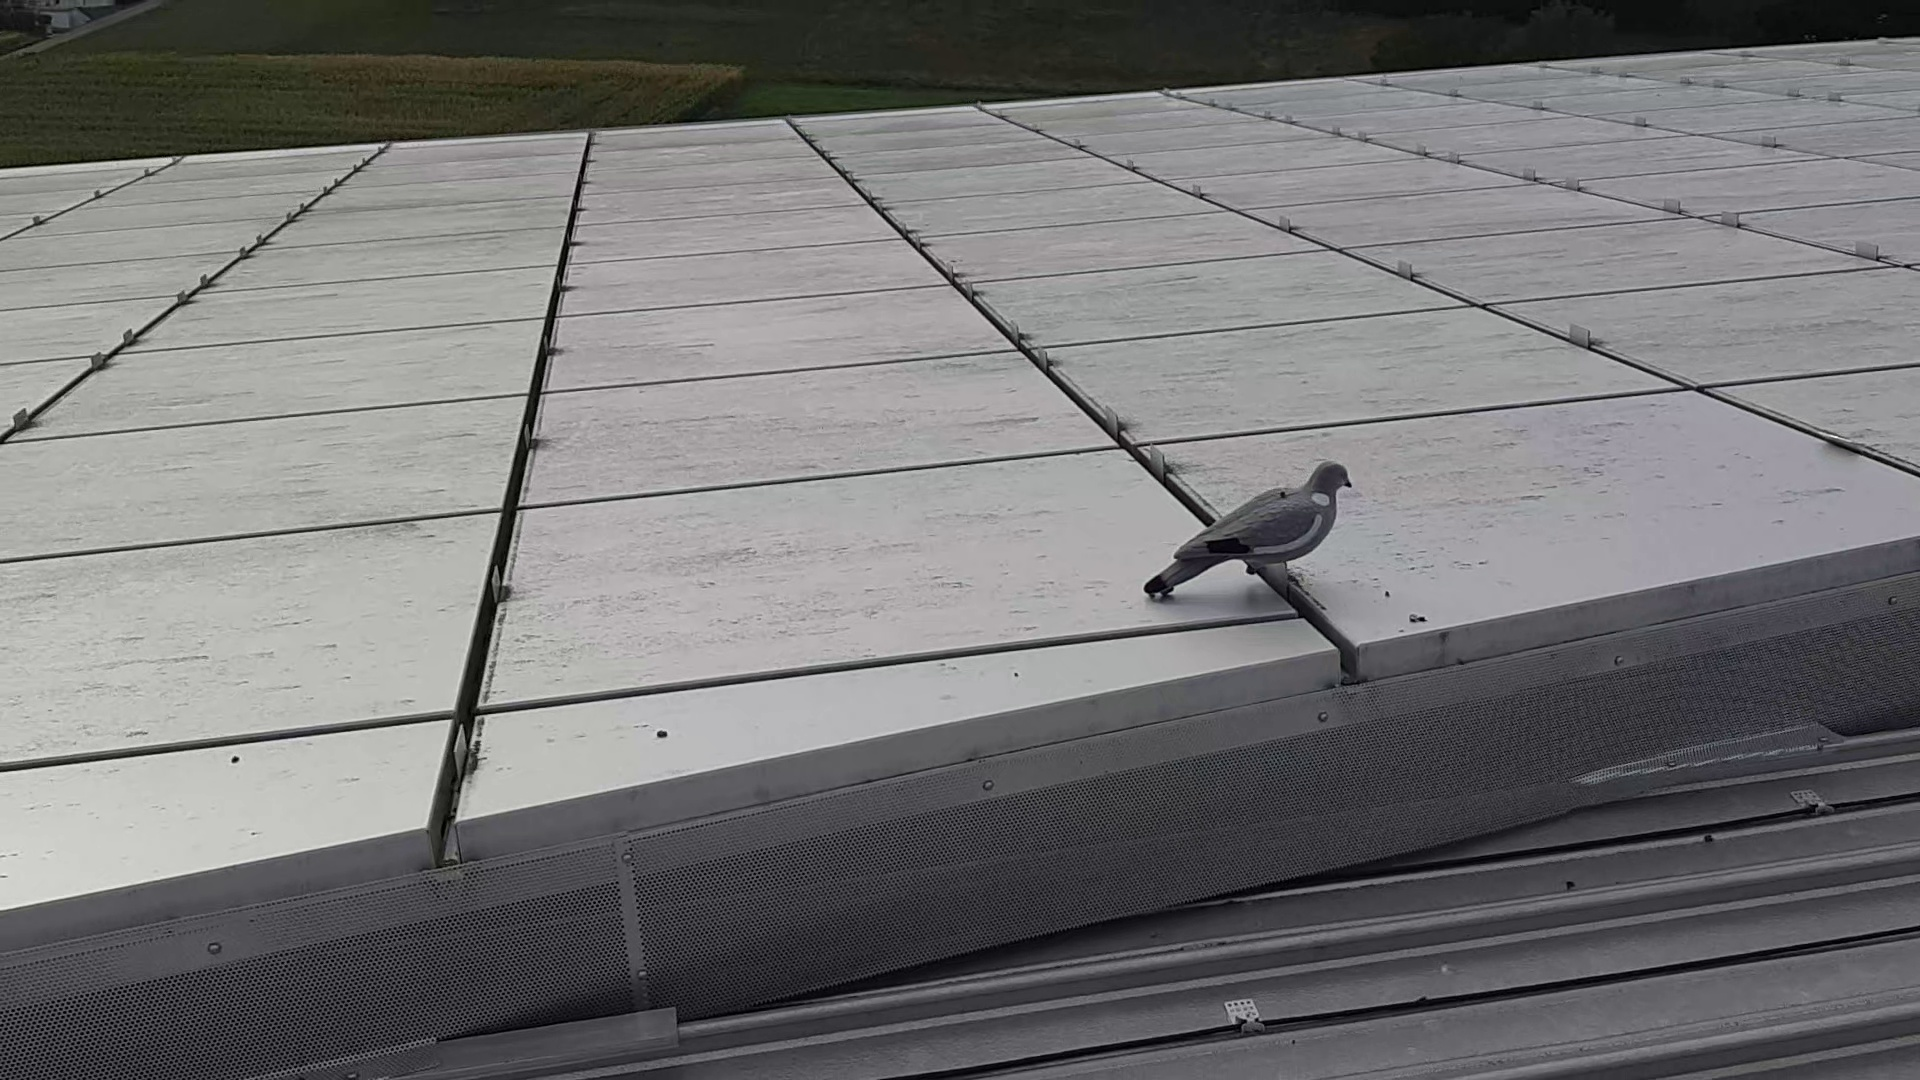Pigeon: (1135, 458, 1356, 607)
